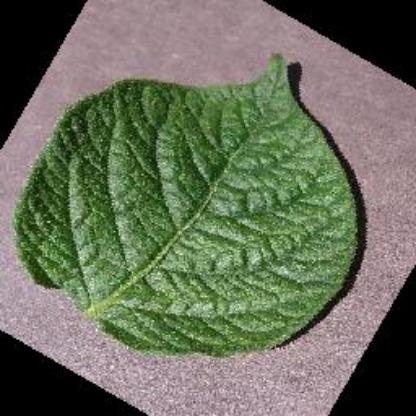Healthy-plant: (14, 45, 370, 363)
